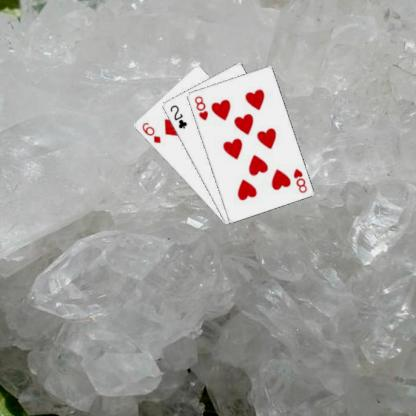2C: (167, 102, 188, 130)
6D: (139, 119, 162, 144)
8H: (192, 93, 209, 122), (291, 166, 308, 194)
